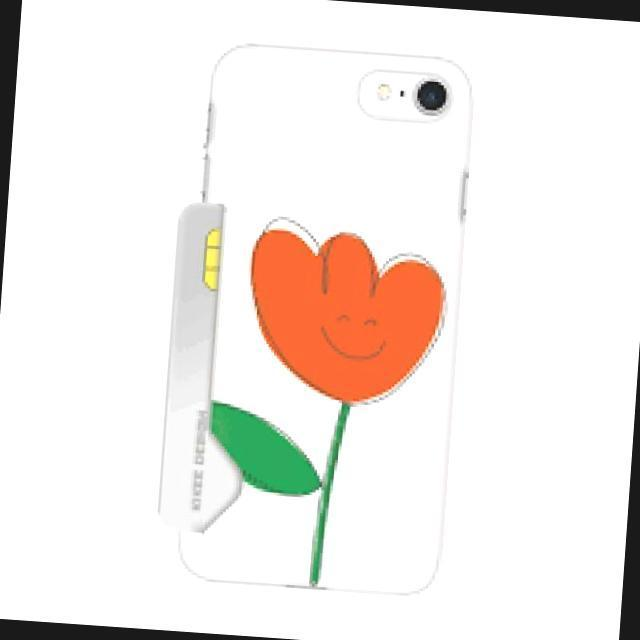lens: (368, 64, 456, 118)
phone: (184, 41, 474, 602)
